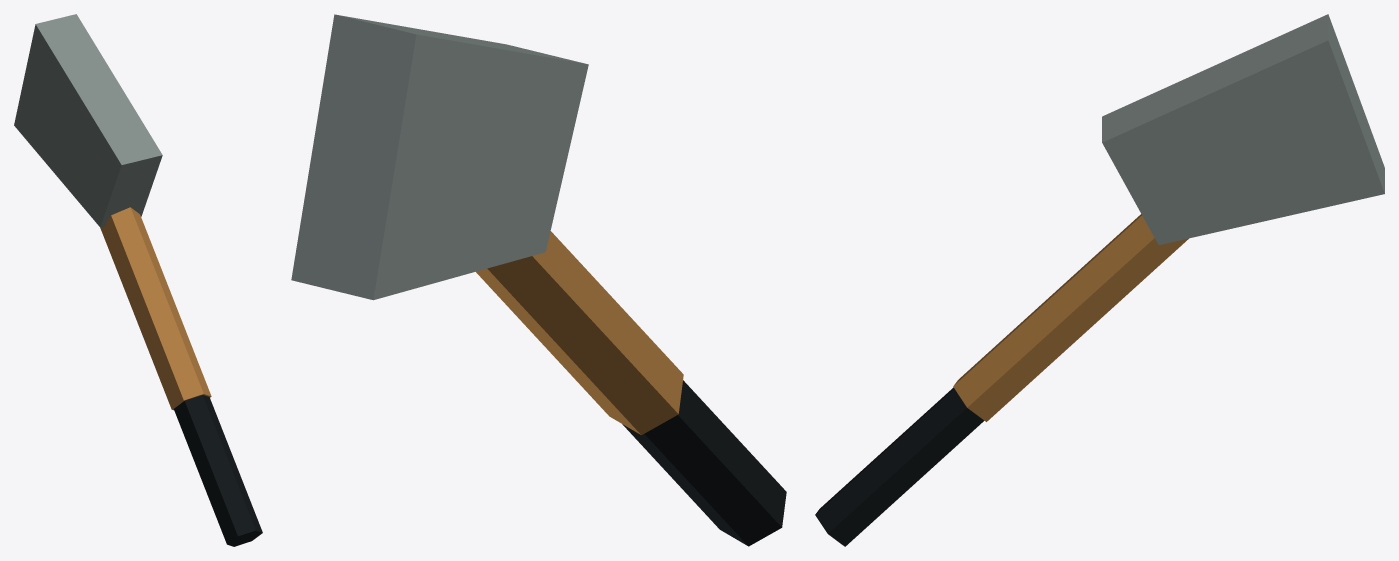
3 views of the same model, side by side, from view 1: azimuth 30°, elevation 25°; view 2: azimuth 150°, elevation 25°; view 3: azimuth 270°, elevation 25° (orthographic). The views are drawn at different scales.
Visible parts, largest first — view 1: mount; view 2: mount; view 3: mount.
Part boxes in pixels (x1,y1,x2,y2): mount: (14, 14, 262, 546); mount: (291, 14, 786, 546); mount: (815, 14, 1384, 546).
Bounding box in the file's own units: 1.1 × 10.08 × 10.08.
